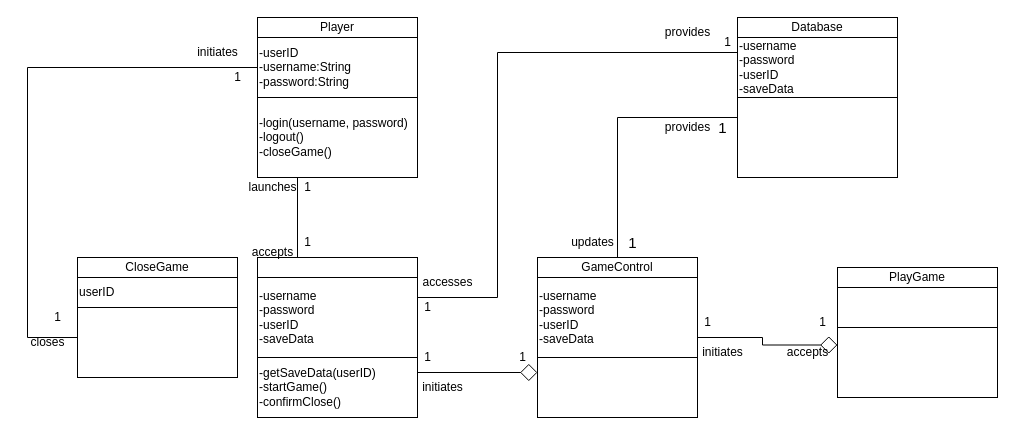
Image size: 1015x435. Some labels were removed from this diagram. Each missing label, with the centre of its shape:
"-checkUserID(userID) -getSaveData(userID) -updateSaveData(userID)" belongs at pixel 817 137.
"-closeGame() -updateSaveData(userID) -confirmClose() -logout()" belongs at pixel 157 342.
"-enterInput(input) -move(input) -update(display) -startClose()" belongs at pixel 917 362.
"-getSaveData(userID) -startGame() -updateSaveData(userID) -closeGame()" belongs at pixel 617 387.
"-input -display" belongs at pixel 917 307.
"LaunchGame" belongs at pixel 337 267.
